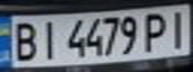4: (63, 16, 87, 58), (84, 15, 106, 57)
7: (100, 14, 124, 56)
9: (118, 12, 142, 56)
B: (6, 18, 42, 62)
I: (163, 7, 193, 50), (36, 17, 60, 61)
P: (139, 9, 172, 52)
